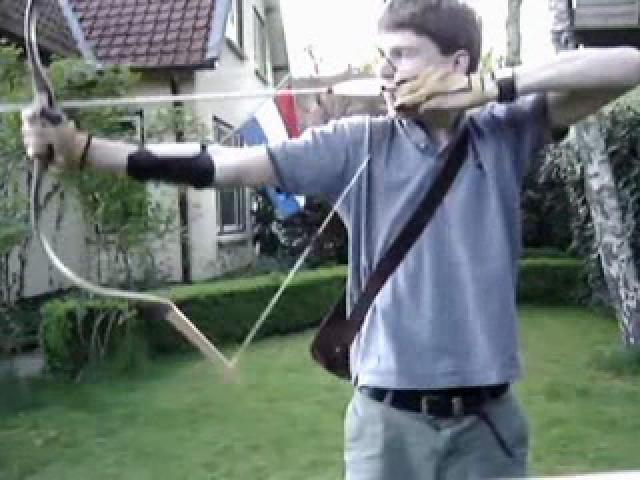P: (18, 0, 561, 480)
